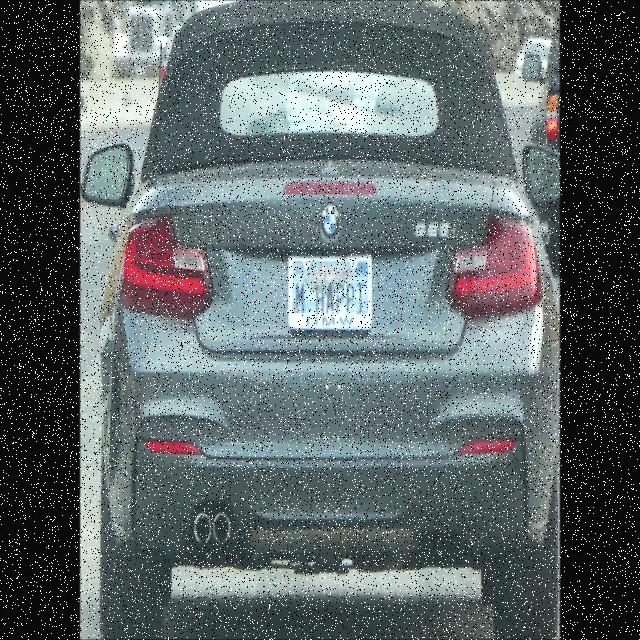licenseplate: (281, 241, 382, 341)
